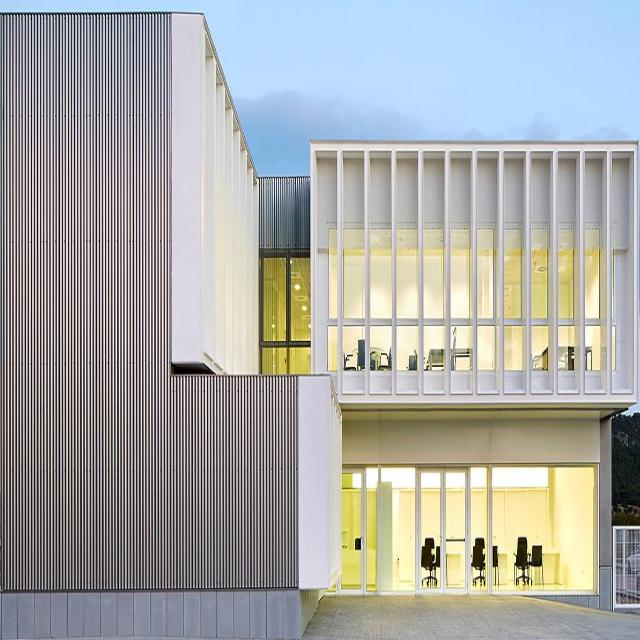door: (415, 468, 471, 595), (340, 465, 368, 597)
wall: (0, 12, 639, 638)
windows: (341, 467, 597, 594), (258, 252, 312, 374), (503, 226, 525, 368), (343, 226, 365, 367), (422, 226, 444, 367), (477, 228, 499, 369), (370, 226, 391, 368), (396, 225, 417, 367), (451, 227, 472, 369), (530, 227, 551, 369), (583, 228, 602, 368), (556, 228, 574, 371), (327, 225, 339, 371)
